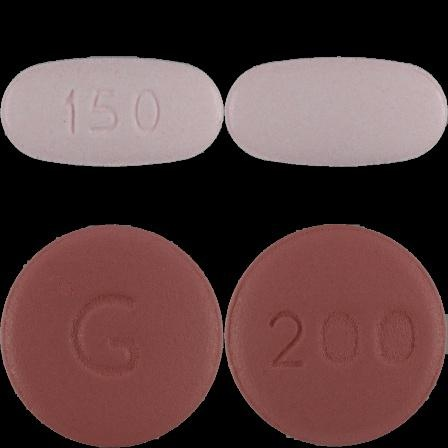68462-103: (0, 0, 224, 224)
